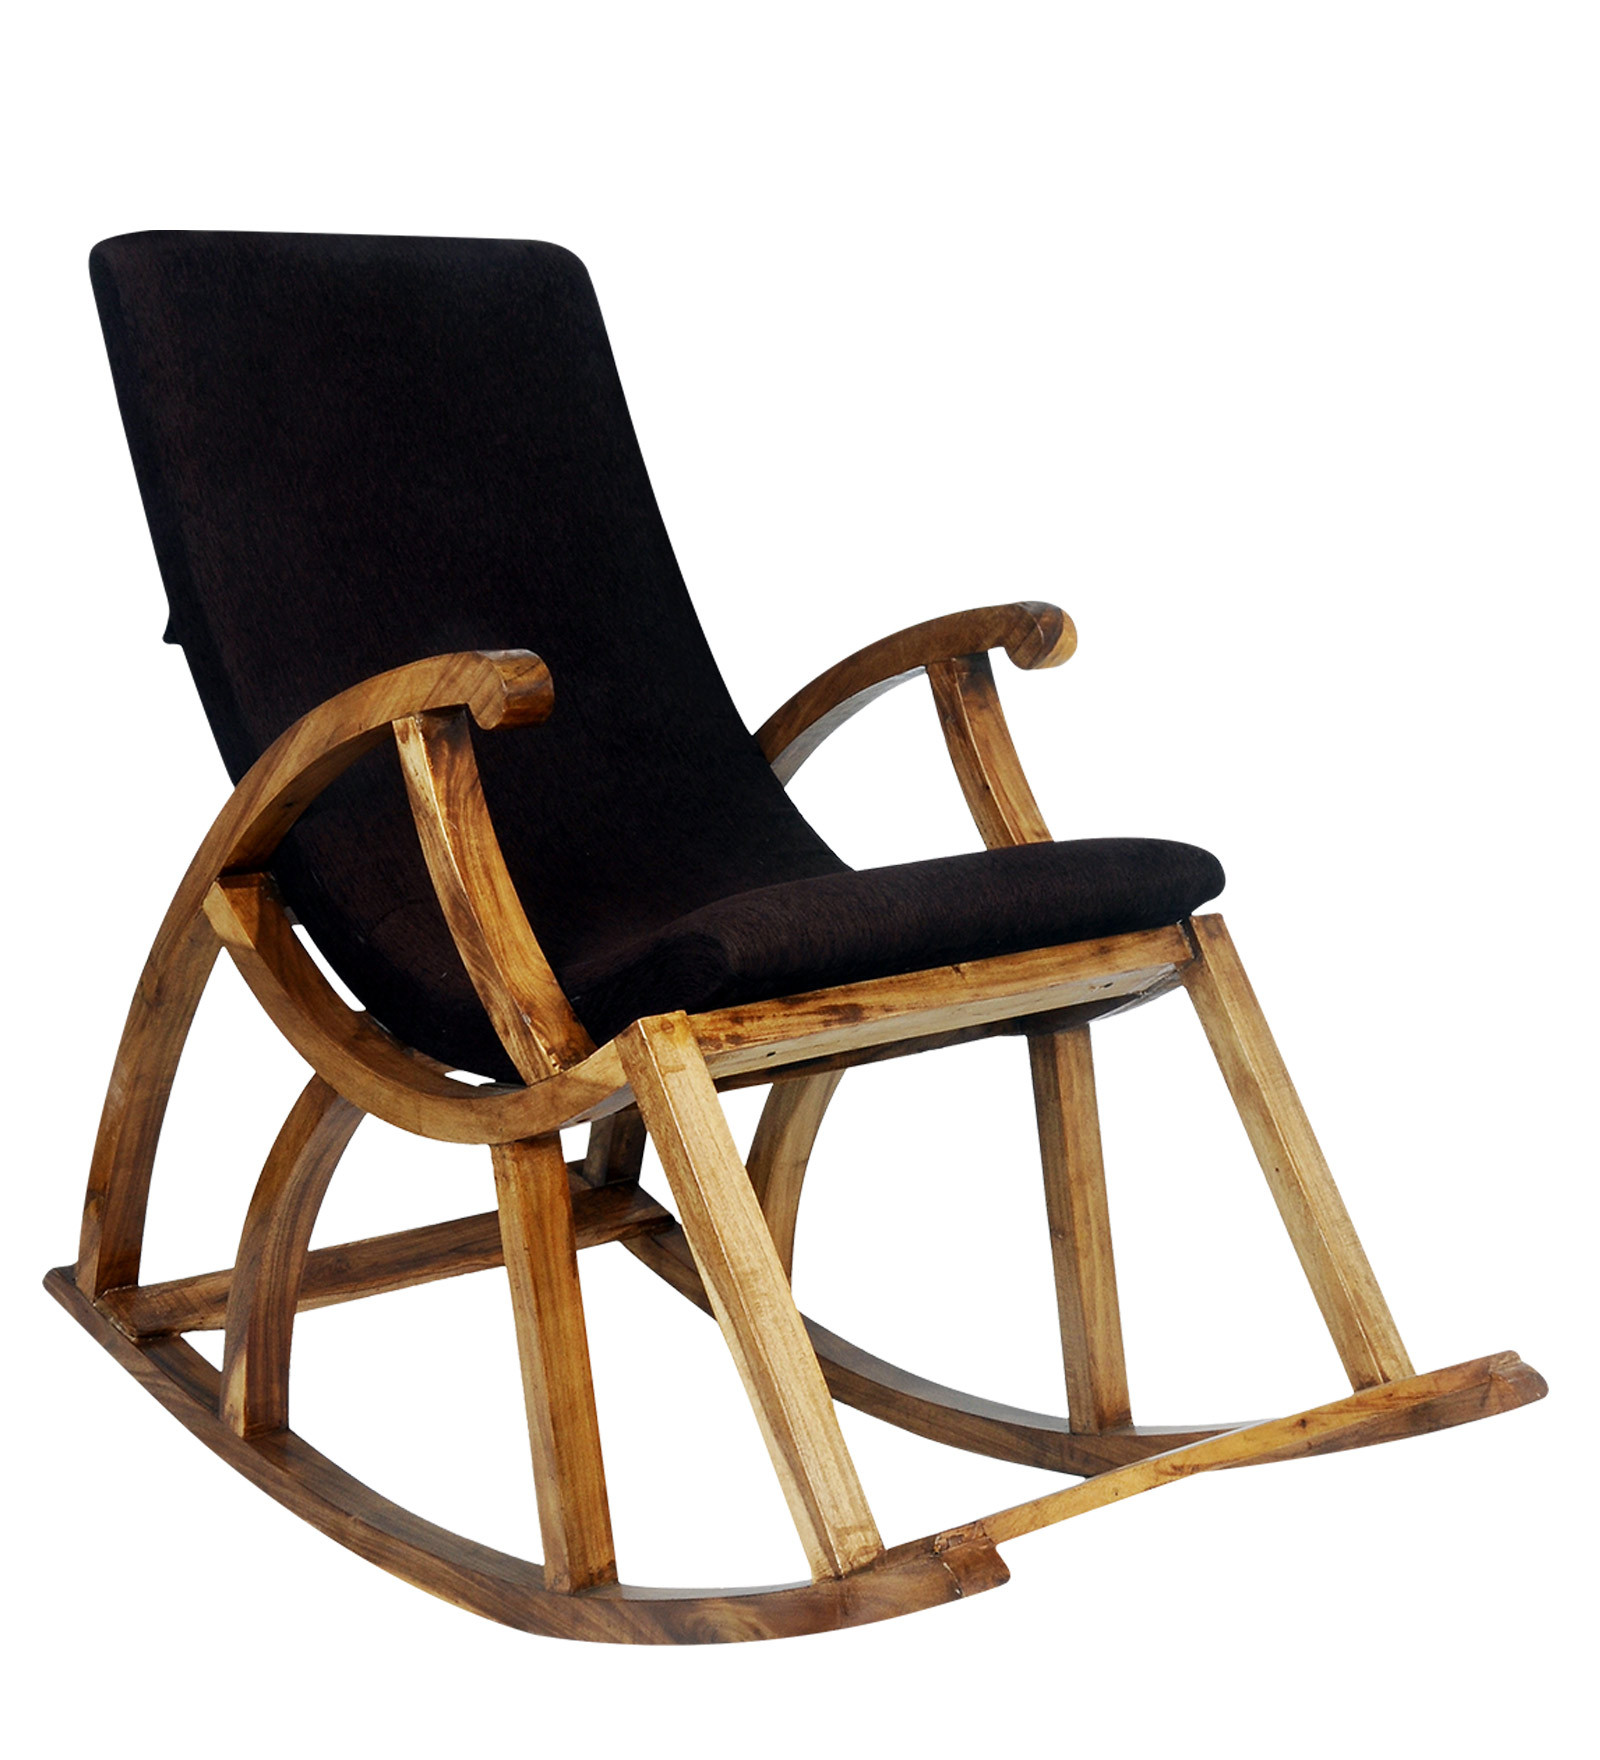Upholstered Teak Wood Rocking Chair in Natural Finish by Furniease: (28, 190, 1579, 1700)
